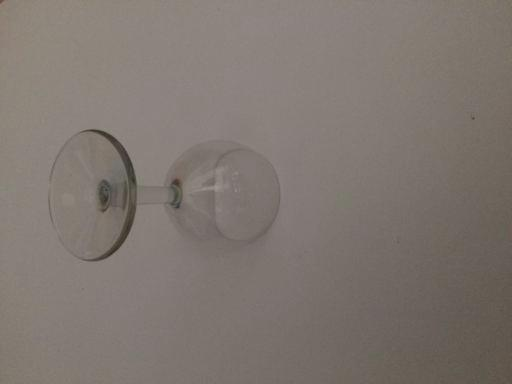glass: (48, 128, 281, 261)
